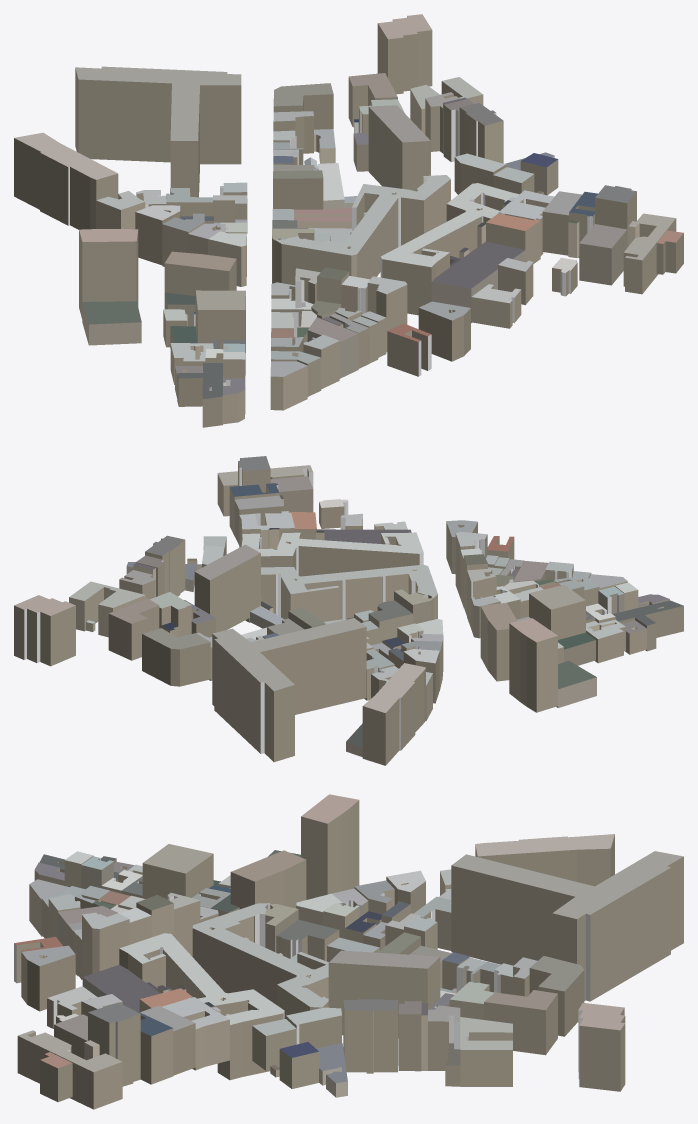
3 views of the same model, one above another, from view 1: azimuth 30°, elevation 25°; view 2: azimuth 150°, elevation 25°; view 3: azimuth 270°, elevation 25° (orthographic). The views are drawn at different scales.
Visible parts, largest first — view 1: tuile; view 2: tuile; view 3: tuile.
Part boxes in pixels (x1,y1,x2,y2): tuile: (14, 14, 683, 427); tuile: (14, 456, 683, 765); tuile: (14, 794, 683, 1109).
Size of the model in its own units: 274 by 55.37 by 287.
